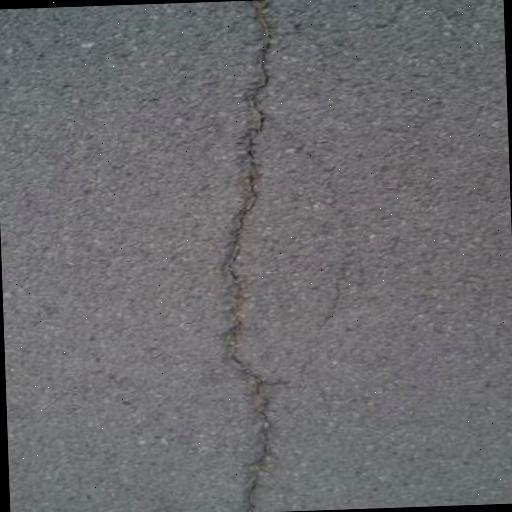spalling: (205, 6, 288, 504)
